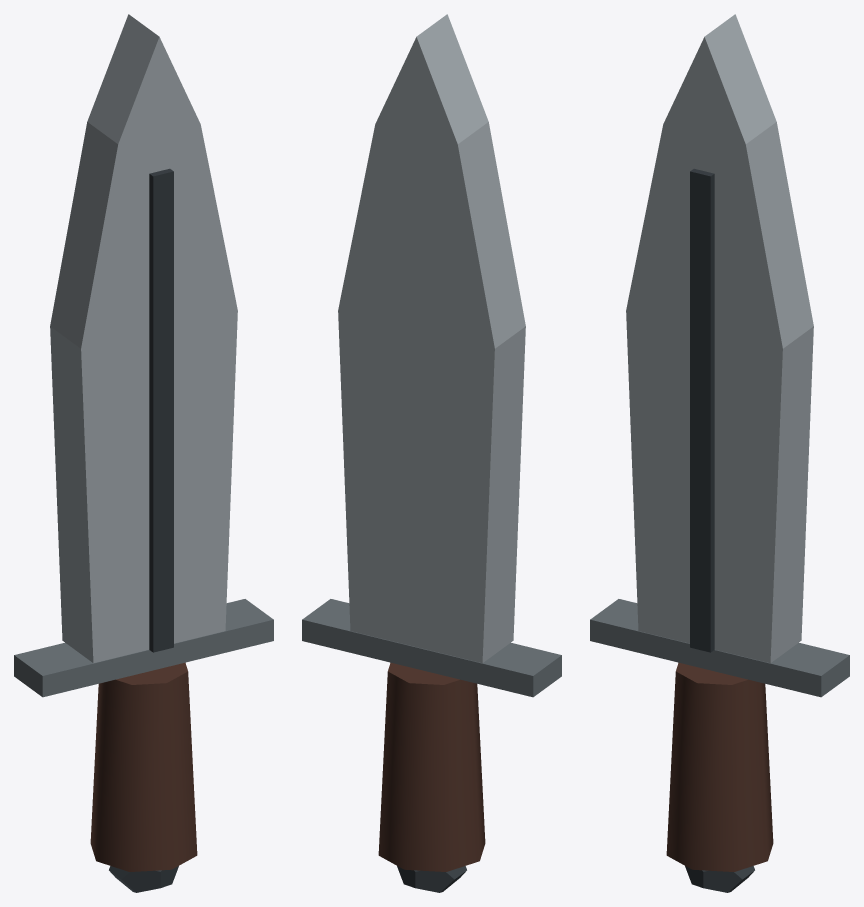
File: greatsword.glb
3 renders of one model, left to right at view 1: azimuth 30°, elevation 25°; view 2: azimuth 150°, elevation 25°; view 3: azimuth 330°, elevation 25°, orthographic.
Parts seen in each view (by area): view 1: greatsword-blade, greatsword-grip, greatsword-fuller, greatsword-crossguard, greatsword-pommel; view 2: greatsword-blade, greatsword-grip, greatsword-crossguard, greatsword-pommel; view 3: greatsword-blade, greatsword-grip, greatsword-fuller, greatsword-crossguard, greatsword-pommel.
Part boxes in pixels (box(x1,y1,x2,y2)): greatsword-blade: box(50, 14, 237, 663); greatsword-grip: box(90, 662, 197, 871); greatsword-fuller: box(149, 168, 173, 652); greatsword-crossguard: box(14, 599, 273, 697); greatsword-pommel: box(109, 866, 178, 892); greatsword-blade: box(338, 14, 525, 663); greatsword-grip: box(378, 662, 485, 871); greatsword-crossguard: box(302, 599, 561, 697); greatsword-pommel: box(397, 866, 466, 892); greatsword-blade: box(626, 14, 813, 663); greatsword-grip: box(666, 662, 773, 871); greatsword-fuller: box(690, 168, 714, 652); greatsword-crossguard: box(590, 599, 849, 697); greatsword-pommel: box(685, 866, 754, 892).
Size of the model in its own units: 0.28 by 1 by 0.116.
